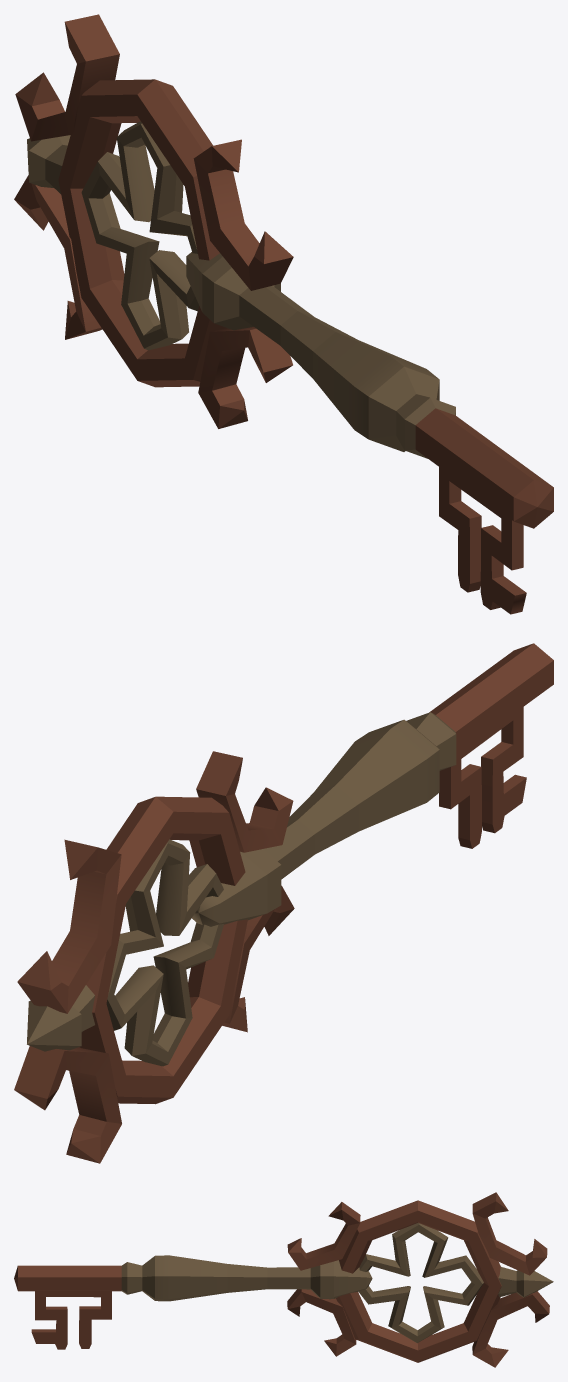
Rendered from SM_Prop_Key_01.fbx.
3 renders of one model, top to bottom at view 1: azimuth 30°, elevation 25°; view 2: azimuth 150°, elevation 25°; view 3: azimuth 270°, elevation 25°, orthographic. The views are drawn at different scales.
Parts seen in each view (by area): view 1: SM_Prop_Key_01; view 2: SM_Prop_Key_01; view 3: SM_Prop_Key_01.
Boxes of the visible parts, left/top/right/bottom form: SM_Prop_Key_01: left=14, top=14, right=553, bottom=614; SM_Prop_Key_01: left=14, top=643, right=553, bottom=1163; SM_Prop_Key_01: left=14, top=1192, right=553, bottom=1367.
Bounding box in the file's own units: 1.75 × 7.36 × 21.49.
